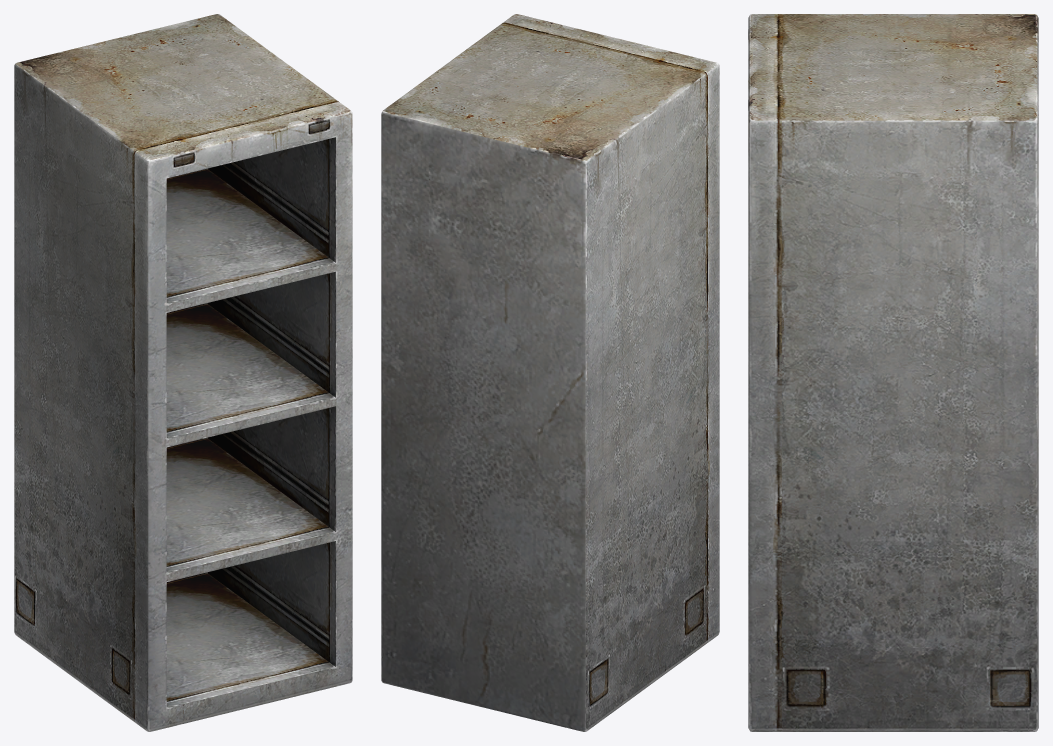
File: file_cabinet_theta_large_body.DAE
3 renders of one model, left to right at view 1: azimuth 30°, elevation 25°; view 2: azimuth 150°, elevation 25°; view 3: azimuth 270°, elevation 25°, orthographic. The views are drawn at different scales.
Parts seen in each view (by area): view 1: file_cabinet_theta_large_body; view 2: file_cabinet_theta_large_body; view 3: file_cabinet_theta_large_body.
Part boxes in pixels (x1,y1,x2,y2): file_cabinet_theta_large_body: [14, 14, 352, 731]; file_cabinet_theta_large_body: [381, 14, 719, 731]; file_cabinet_theta_large_body: [748, 14, 1038, 731].
Bounding box in the file's own units: 0.5971 × 1.58 × 0.6791.
